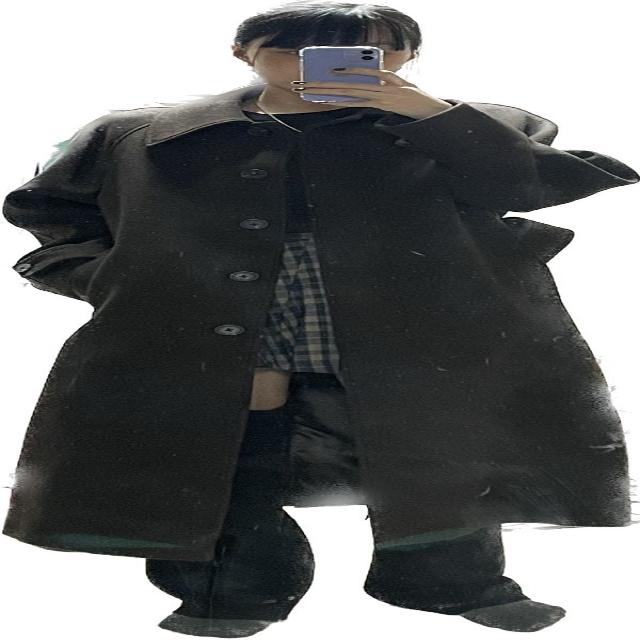coat: (0, 85, 640, 564)
slacks: (154, 371, 530, 618)
